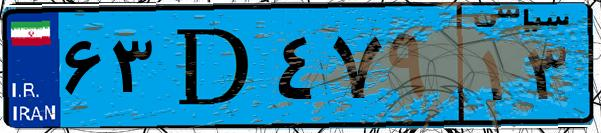1: (475, 38, 525, 113)
3: (525, 38, 570, 115), (110, 28, 158, 98)
4: (270, 28, 330, 110)
6: (57, 26, 110, 100)
7: (330, 28, 385, 110)
9: (385, 28, 445, 110)
D: (158, 12, 270, 120)
